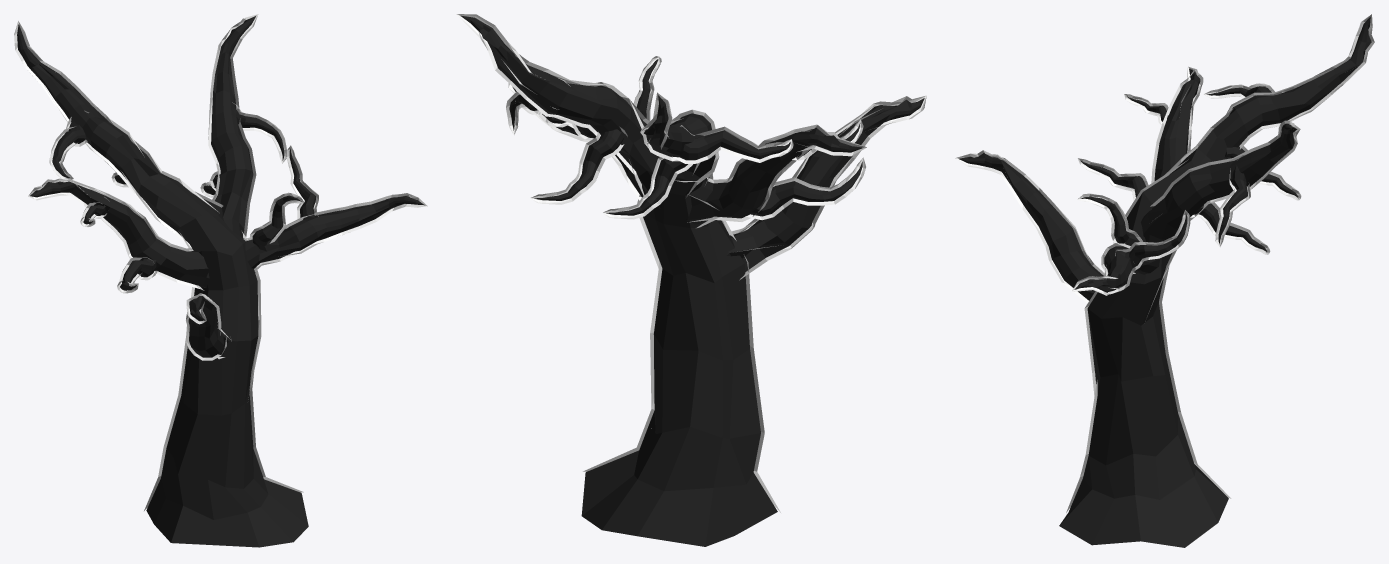
File: deadTree.glb
3 renders of one model, left to right at view 1: azimuth 30°, elevation 25°; view 2: azimuth 150°, elevation 25°; view 3: azimuth 270°, elevation 25°, orthographic. The views are drawn at different scales.
Parts seen in each view (by area): view 1: deadTree_LOD0; view 2: deadTree_LOD0; view 3: deadTree_LOD0.
Boxes of the visible parts, x1,y1,x2,y2 form: deadTree_LOD0: (14,14,427,547); deadTree_LOD0: (456,14,926,546); deadTree_LOD0: (955,14,1374,547).
Size of what is drawn, in the model's own units: 14.07 by 17.53 by 14.54.
Materials: 2 (1 with a texture image).
